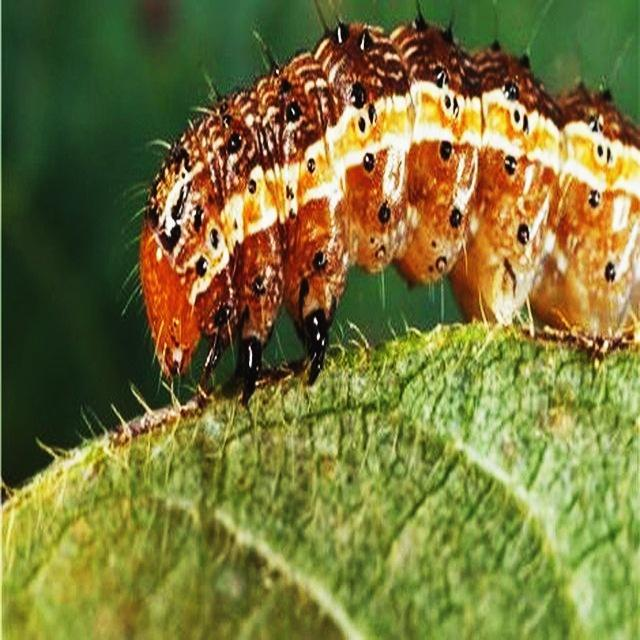worm: (120, 1, 640, 414)
